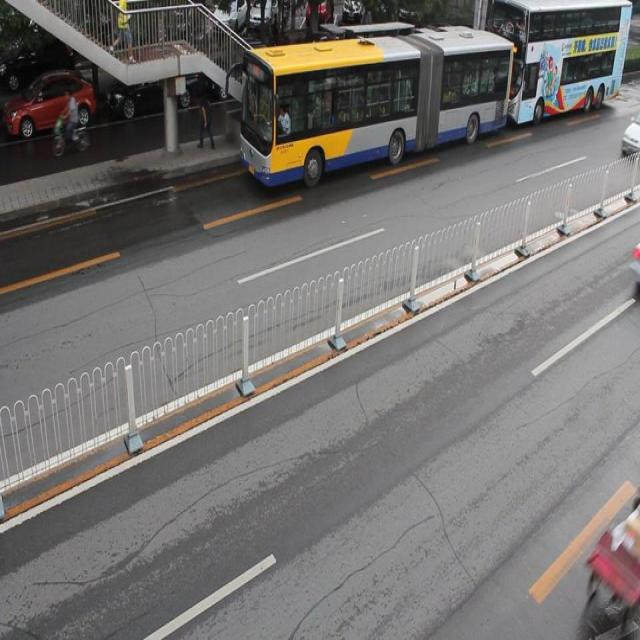car: (0, 70, 96, 137), (104, 56, 198, 113), (206, 39, 277, 103), (291, 42, 363, 98), (619, 116, 640, 166)
van: (241, 23, 512, 180), (486, 1, 630, 120)
